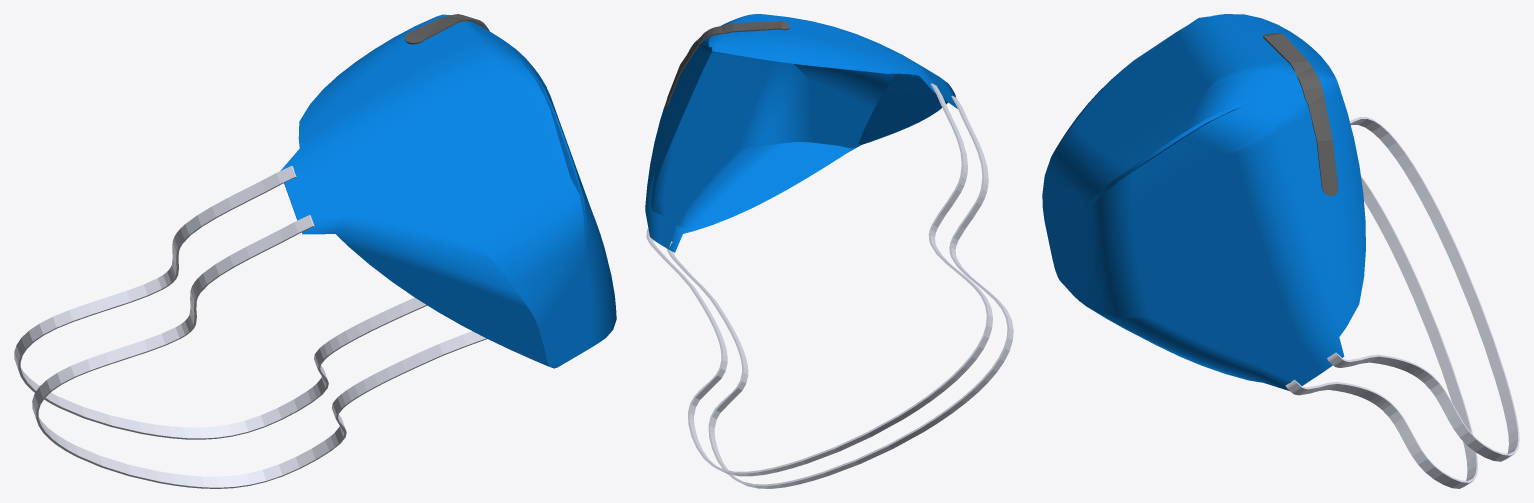
File: mascara.gltf
The picture shows the model from 3 angles, left to right: view 1: azimuth 30°, elevation 25°; view 2: azimuth 150°, elevation 25°; view 3: azimuth 270°, elevation 25°; orthographic projection. The views are drawn at different scales.
Parts seen in each view (by area): view 1: Shell2; view 2: Shell2; view 3: Shell2.
Boxes of the visible parts, x1,y1,x2,y2 form: Shell2: (14,14,616,488); Shell2: (645,14,1013,488); Shell2: (1042,14,1519,488).
Size of the model in its own units: 0.3867 by 0.3887 by 0.355.
